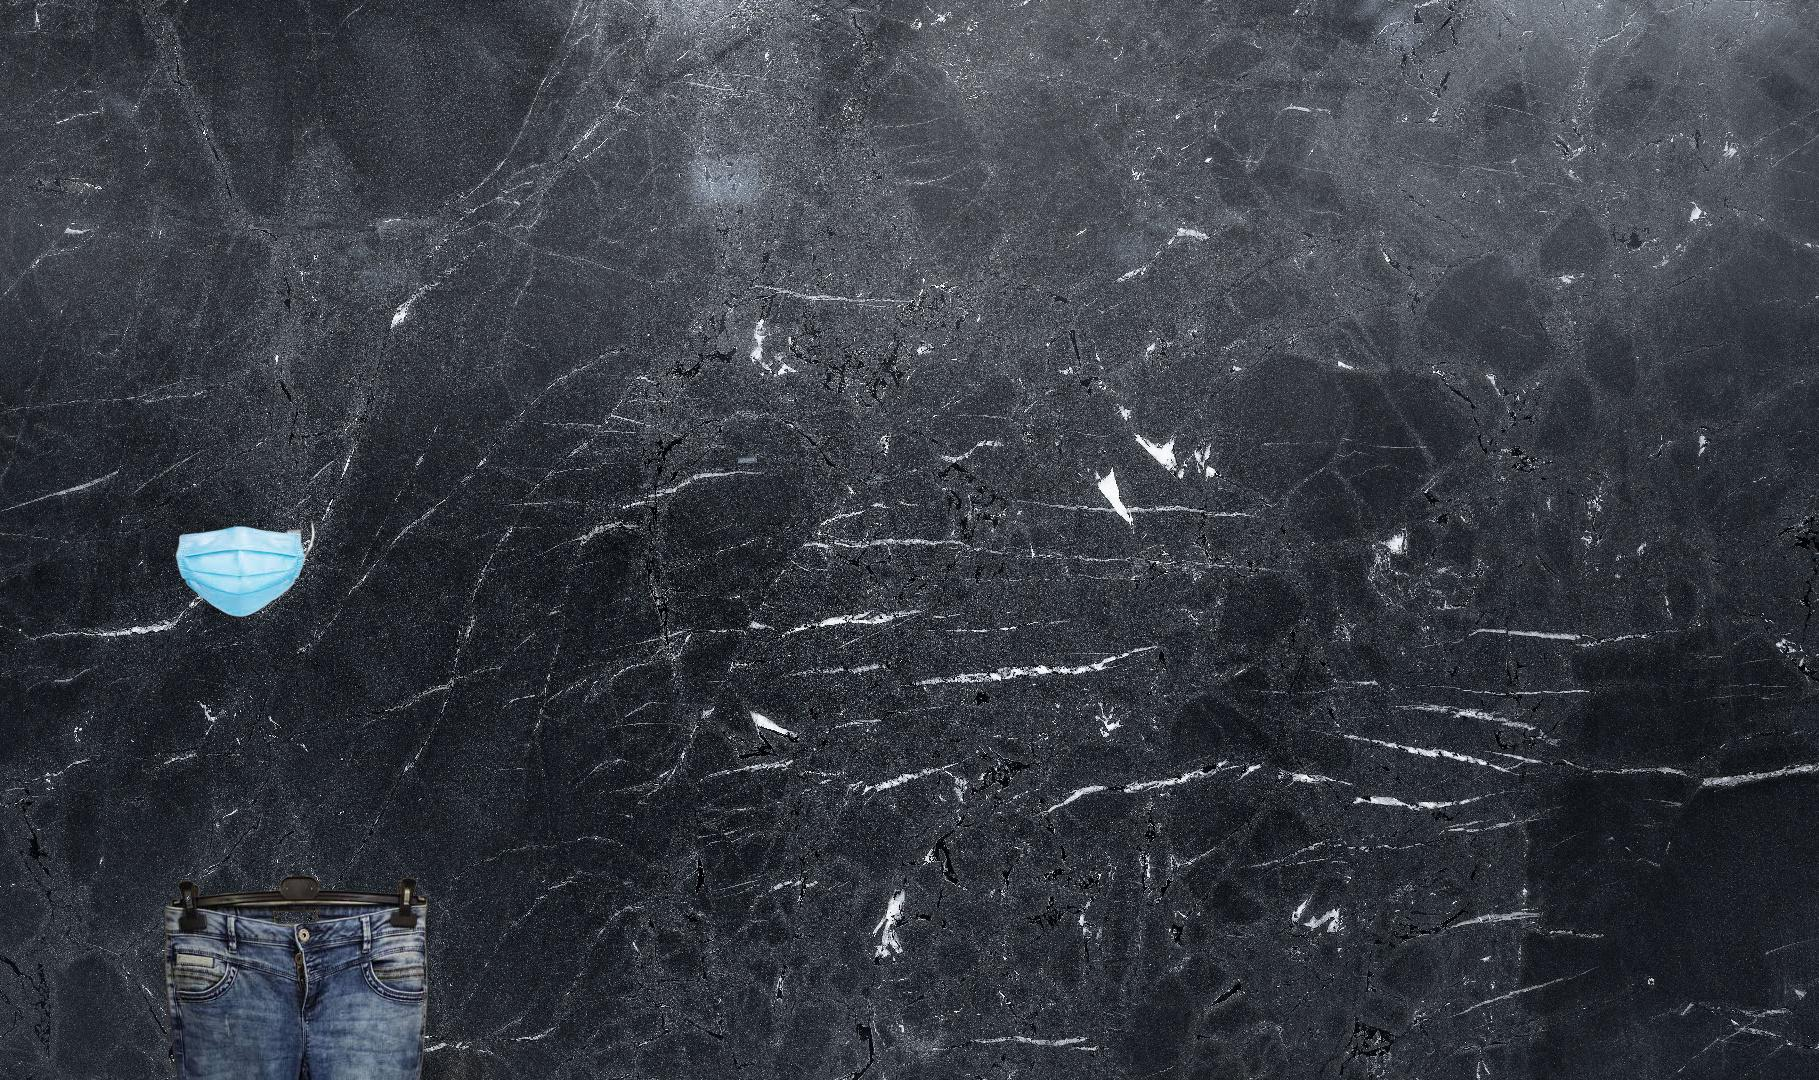clothes: (159, 876, 432, 1080)
trash: (167, 512, 318, 620)
